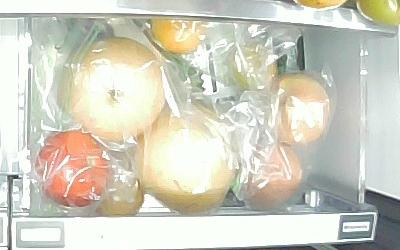peach_vinyl: (267, 71, 330, 145), (236, 141, 302, 211)
pear_vinyl: (59, 36, 165, 142), (132, 110, 233, 213)
tangerine_vinyl: (229, 44, 279, 91), (150, 13, 205, 54)
tomato_vinyl: (36, 131, 110, 208)
